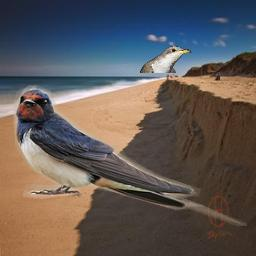Cuckoo: (140, 46, 192, 73)
Swallow: (13, 85, 247, 226)
